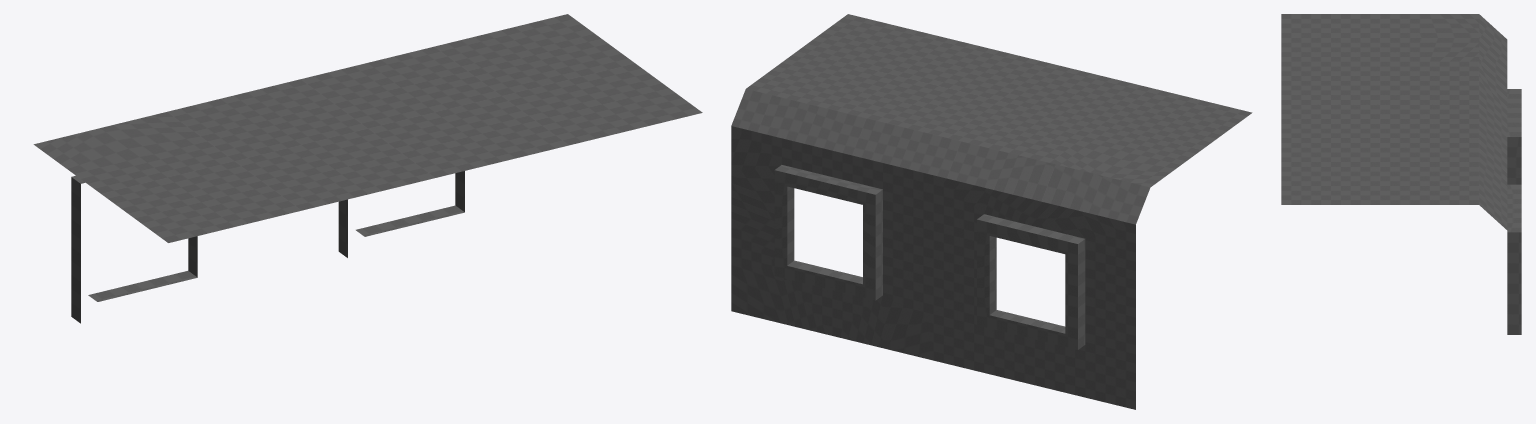
3 renders of one model, left to right at view 1: azimuth 30°, elevation 25°; view 2: azimuth 150°, elevation 25°; view 3: azimuth 270°, elevation 25°, orthographic. The views are drawn at different scales.
Parts seen in each view (by area): view 1: 2; view 2: 2; view 3: 2.
Boxes of the visible parts, x1,y1,x2,y2 form: 2: [33, 14, 702, 323]; 2: [731, 14, 1252, 409]; 2: [1281, 14, 1521, 334].
Size of the model in its own units: 4 by 2 by 2.12.
Materials: 2 (2 with a texture image).
